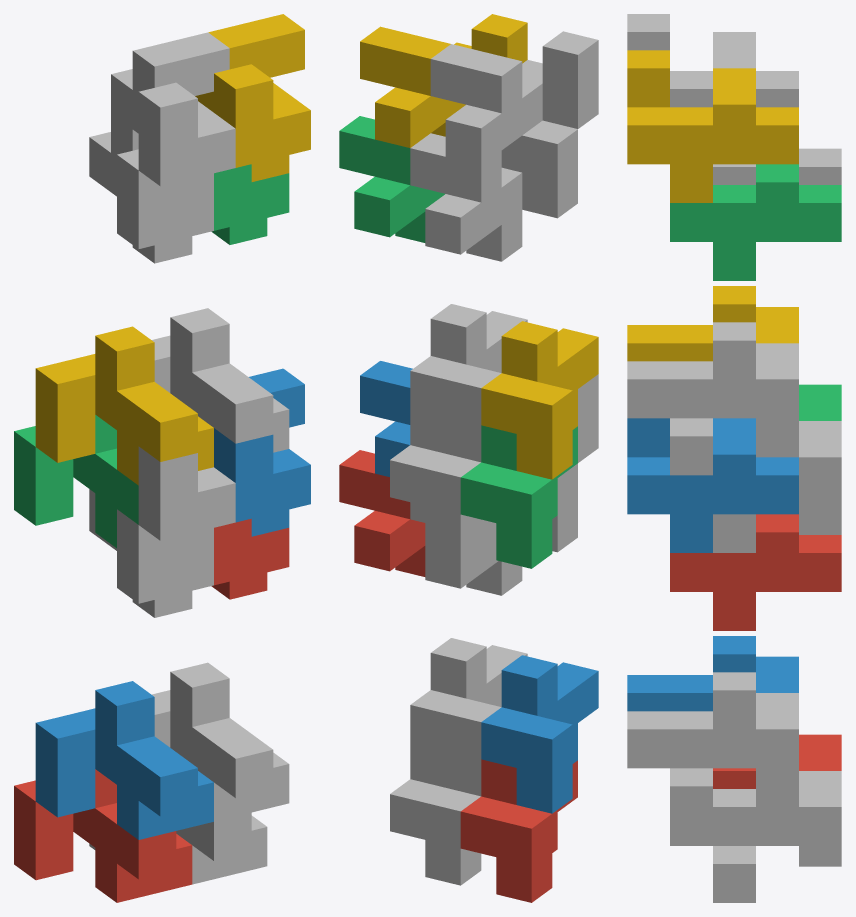
Rendered from tiling.obj.
3 renders of one model, left to right at view 1: azimuth 30°, elevation 25°; view 2: azimuth 150°, elevation 25°; view 3: azimuth 270°, elevation 25°, orthographic. The views are drawn at different scales.
Parts seen in each view (by area): view 1: copy_1_domain_2, copy_1_domain_4, copy_2_domain_4, copy_1_domain_1, copy_2_domain_8, copy_1_domain_6, copy_1_domain_8, copy_2_domain_3, copy_1_domain_3, copy_2_domain_6, copy_2_domain_2, copy_2_domain_1 (+3 smaller); view 2: copy_2_domain_4, copy_2_domain_3, copy_1_domain_4, copy_1_domain_2, copy_2_domain_8, copy_1_domain_8, copy_1_domain_6, copy_1_domain_1, copy_1_domain_3, copy_1_domain_5, copy_1_domain_7, copy_2_domain_7 (+4 smaller); view 3: copy_2_domain_8, copy_1_domain_6, copy_1_domain_8, copy_2_domain_6, copy_1_domain_5, copy_2_domain_7, copy_2_domain_5, copy_1_domain_7, copy_1_domain_2, copy_1_domain_4, copy_2_domain_4, copy_1_domain_1 (+3 smaller).
Boxes of the visible parts, x1=… form: copy_1_domain_2: x1=35, y1=681, x2=213, y2=839; copy_1_domain_4: x1=35, y1=326, x2=213, y2=485; copy_2_domain_4: x1=111, y1=32, x2=235, y2=200; copy_1_domain_1: x1=14, y1=769, x2=192, y2=902; copy_2_domain_8: x1=195, y1=14, x2=310, y2=181; copy_1_domain_6: x1=152, y1=662, x2=289, y2=821; copy_1_domain_8: x1=152, y1=308, x2=289, y2=452; copy_2_domain_3: x1=89, y1=114, x2=213, y2=263; copy_1_domain_3: x1=14, y1=415, x2=138, y2=548; copy_2_domain_6: x1=214, y1=368, x2=310, y2=536; copy_2_domain_2: x1=138, y1=446, x2=235, y2=554; copy_2_domain_1: x1=89, y1=492, x2=213, y2=617; copy_2_domain_4: x1=430, y1=31, x2=598, y2=172; copy_2_domain_3: x1=410, y1=120, x2=577, y2=261; copy_1_domain_4: x1=481, y1=321, x2=598, y2=479; copy_1_domain_2: x1=481, y1=655, x2=598, y2=813; copy_2_domain_8: x1=360, y1=14, x2=527, y2=147; copy_1_domain_8: x1=410, y1=304, x2=527, y2=462; copy_1_domain_6: x1=410, y1=638, x2=527, y2=796; copy_1_domain_1: x1=460, y1=759, x2=577, y2=902; copy_1_domain_3: x1=460, y1=425, x2=577, y2=568; copy_1_domain_5: x1=390, y1=742, x2=481, y2=885; copy_1_domain_7: x1=390, y1=408, x2=481, y2=551; copy_2_domain_7: x1=339, y1=116, x2=444, y2=242; copy_2_domain_8: x1=627, y1=50, x2=798, y2=202; copy_1_domain_6: x1=627, y1=672, x2=798, y2=825; copy_1_domain_8: x1=627, y1=322, x2=798, y2=475; copy_2_domain_6: x1=627, y1=418, x2=798, y2=552; copy_1_domain_5: x1=670, y1=768, x2=841, y2=902; copy_2_domain_7: x1=670, y1=164, x2=841, y2=280; copy_2_domain_5: x1=670, y1=514, x2=841, y2=630; copy_1_domain_7: x1=713, y1=418, x2=841, y2=552; copy_1_domain_2: x1=627, y1=636, x2=798, y2=711; copy_1_domain_4: x1=627, y1=286, x2=798, y2=361; copy_2_domain_4: x1=627, y1=14, x2=798, y2=107; copy_1_domain_1: x1=713, y1=734, x2=841, y2=788.
Size of the model in its own units: 6 by 21 by 5.
